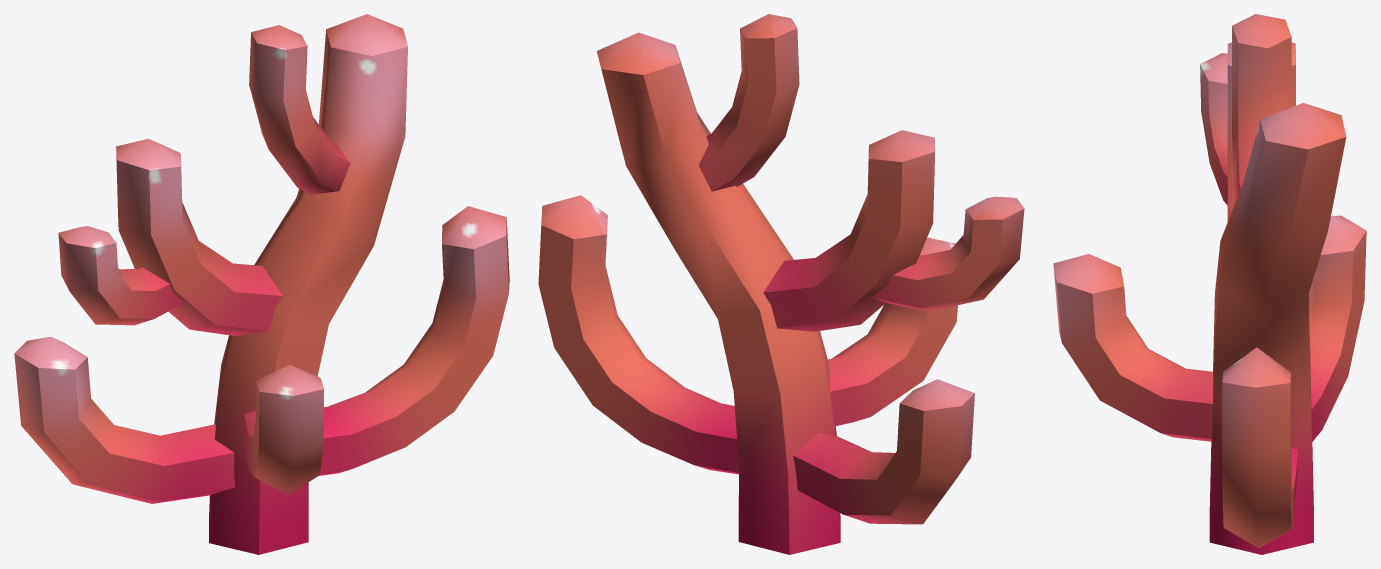
File: Plant002.fbx
The picture shows the model from 3 angles, left to right: view 1: azimuth 30°, elevation 25°; view 2: azimuth 150°, elevation 25°; view 3: azimuth 270°, elevation 25°; orthographic projection. The views are drawn at different scales.
Parts seen in each view (by area): view 1: plant2; view 2: plant2; view 3: plant2.
Boxes of the visible parts, <box> form: plant2: <box>14,14,509,554</box>; plant2: <box>538,14,1024,554</box>; plant2: <box>1053,14,1366,554</box>.
Bounding box in the file's own units: 0.8068 × 0.8409 × 0.4551.
Materials: 1 (1 with a texture image).
